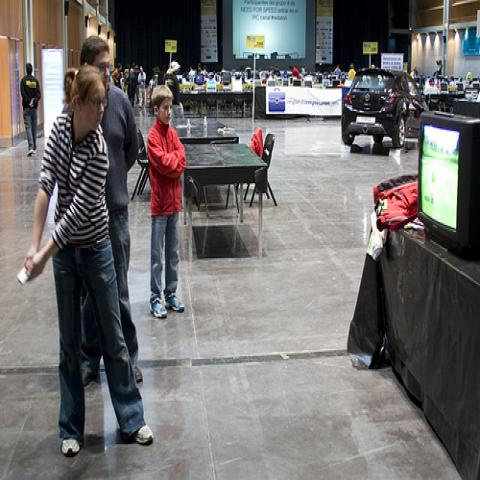car: (341, 68, 428, 148), (26, 83, 34, 88)
